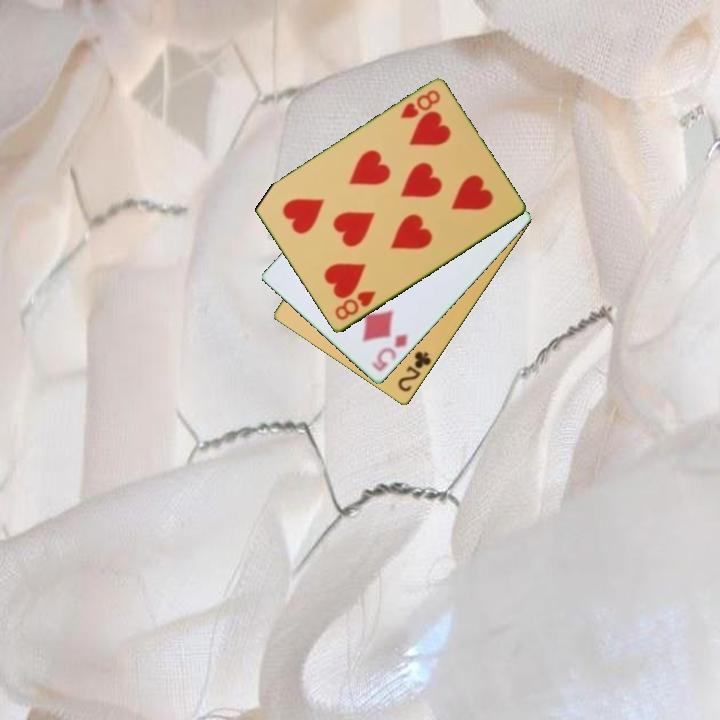2c: (394, 348, 434, 395)
5d: (367, 330, 411, 375)
8h: (331, 288, 379, 324), (396, 86, 443, 122)
